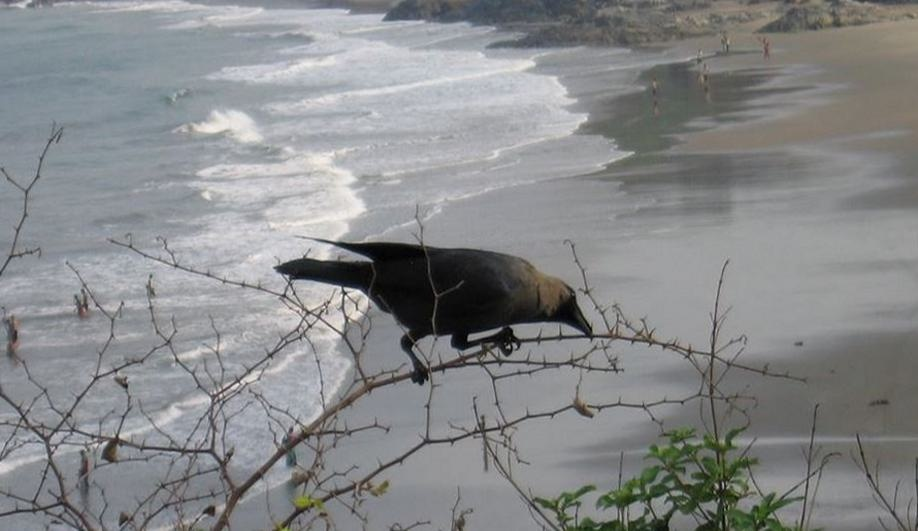crow: (278, 228, 601, 385)
